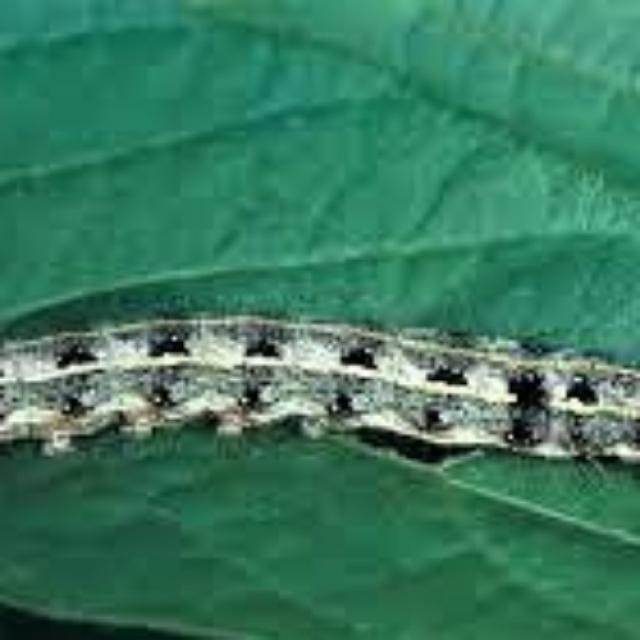armyworm: (0, 311, 639, 476)
